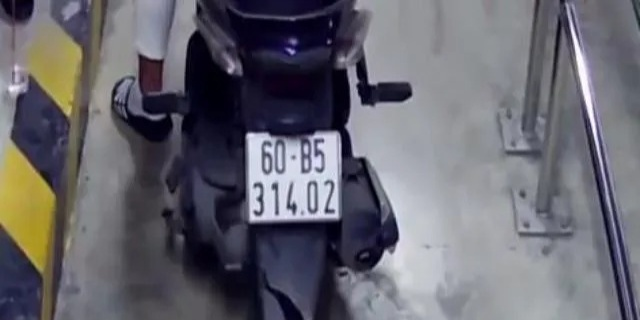bien_so: (244, 131, 343, 221)
